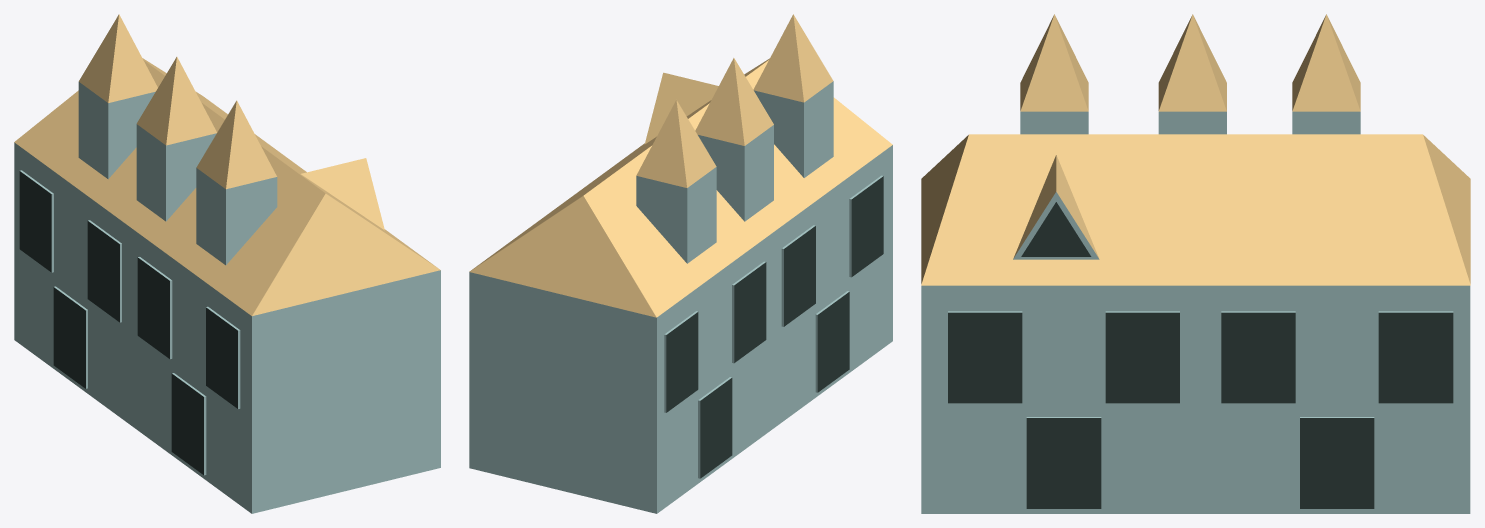
File: House B.fbx
The picture shows the model from 3 angles, left to right: view 1: azimuth 30°, elevation 25°; view 2: azimuth 150°, elevation 25°; view 3: azimuth 270°, elevation 25°; orthographic projection. The views are drawn at different scales.
Visible parts, largest first — view 1: House Model 2; view 2: House Model 2; view 3: House Model 2.
Part boxes in pixels (bbox=[...]): House Model 2: bbox=[14, 14, 440, 513]; House Model 2: bbox=[469, 14, 892, 513]; House Model 2: bbox=[921, 14, 1470, 513].
Size of the model in its own units: 410 by 731 by 872.
